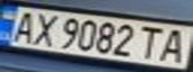0: (75, 17, 100, 53)
2: (112, 20, 142, 58)
8: (93, 19, 121, 55)
9: (54, 15, 81, 51)
A: (154, 26, 193, 64), (3, 8, 42, 44)
T: (133, 24, 172, 61)
X: (24, 10, 63, 47)
